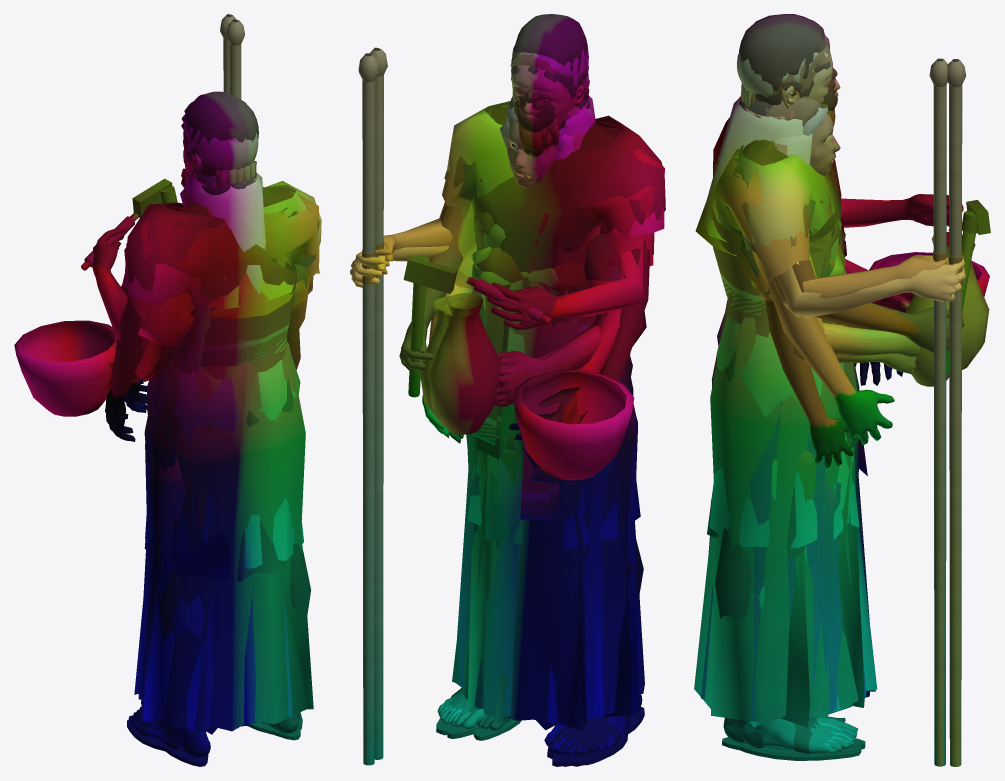
Rendered from noah_family_kit.glb.
3 renders of one model, left to right at view 1: azimuth 30°, elevation 25°; view 2: azimuth 150°, elevation 25°; view 3: azimuth 270°, elevation 25°, orthographic. The views are drawn at different scales.
Parts seen in each view (by area): view 1: char_noah_LOD0, char_son_ham_LOD0, char_daughter_ham_LOD0, char_son_sem_LOD0, char_noah_wife_LOD0, char_daughter_sem_LOD0, char_son_jafet_LOD0, char_daughter_jafet_LOD0; view 2: char_noah_LOD0, char_son_ham_LOD0, char_noah_wife_LOD0, char_son_jafet_LOD0, char_daughter_ham_LOD0, char_son_sem_LOD0, char_daughter_jafet_LOD0, char_daughter_sem_LOD0; view 3: char_noah_LOD0, char_son_ham_LOD0, char_son_jafet_LOD0, char_son_sem_LOD0, char_daughter_jafet_LOD0, char_noah_wife_LOD0, char_daughter_sem_LOD0, char_daughter_ham_LOD0.
Boxes of the visible parts, box(x1,y1,x2,y2) form: char_noah_LOD0: box(124, 19, 319, 751); char_son_ham_LOD0: box(105, 91, 321, 751); char_daughter_ham_LOD0: box(14, 170, 309, 745); char_son_sem_LOD0: box(81, 123, 318, 766); char_noah_wife_LOD0: box(121, 187, 279, 734); char_daughter_sem_LOD0: box(127, 193, 305, 750); char_son_jafet_LOD0: box(124, 14, 319, 640); char_daughter_jafet_LOD0: box(124, 172, 308, 734); char_noah_LOD0: box(370, 47, 664, 759); char_son_ham_LOD0: box(399, 14, 665, 766); char_noah_wife_LOD0: box(428, 107, 640, 760); char_son_jafet_LOD0: box(350, 53, 650, 765); char_daughter_ham_LOD0: box(448, 96, 653, 766); char_son_sem_LOD0: box(422, 65, 664, 738); char_daughter_jafet_LOD0: box(444, 95, 618, 766); char_daughter_sem_LOD0: box(419, 116, 628, 765); char_noah_LOD0: box(694, 34, 948, 766); char_son_ham_LOD0: box(709, 14, 990, 750); char_son_jafet_LOD0: box(707, 36, 966, 766); char_son_sem_LOD0: box(700, 61, 963, 750); char_daughter_jafet_LOD0: box(704, 97, 962, 743); char_noah_wife_LOD0: box(749, 107, 989, 727); char_daughter_sem_LOD0: box(695, 140, 964, 748); char_daughter_ham_LOD0: box(738, 95, 989, 722).
Size of what is drawn, in the model's own units: 0.709 by 1.82 by 0.6932.
Materials: 1 (1 with a texture image).
